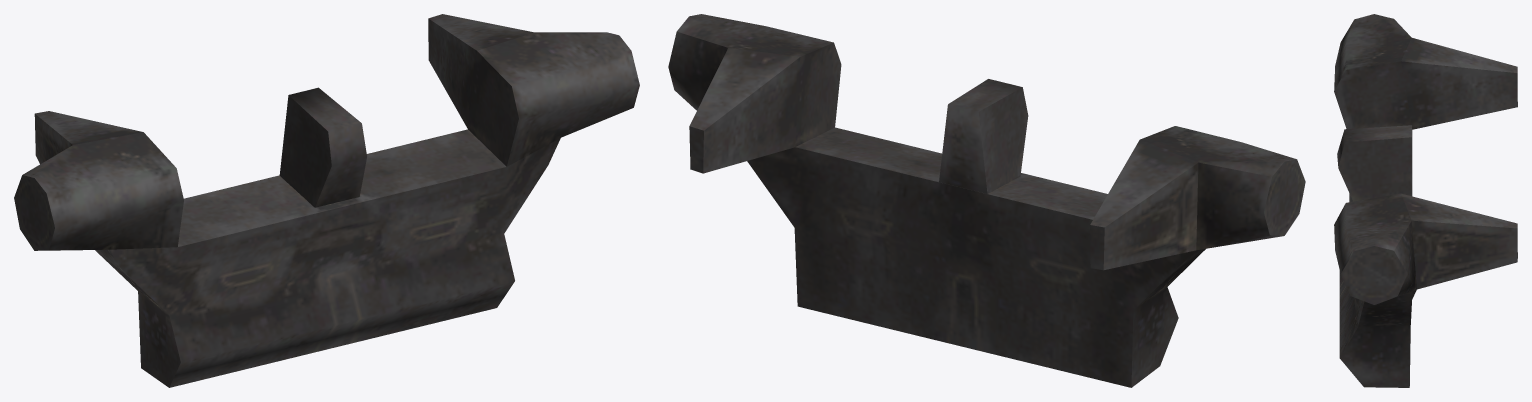
3 renders of one model, left to right at view 1: azimuth 30°, elevation 25°; view 2: azimuth 150°, elevation 25°; view 3: azimuth 270°, elevation 25°, orthographic. The views are drawn at different scales.
Parts seen in each view (by area): view 1: set_0_group_0; view 2: set_0_group_0; view 3: set_0_group_0.
Boxes of the visible parts, box(x1,y1,x2,y2) form: set_0_group_0: box(14, 14, 639, 387); set_0_group_0: box(668, 14, 1305, 387); set_0_group_0: box(1334, 14, 1517, 387).
Bounding box in the file's own units: 0.2841 × 0.1117 × 0.0951.
1 material, 1 textured.
